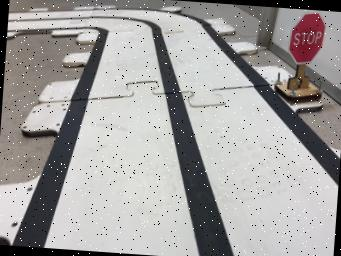stop: (274, 11, 325, 103), (274, 11, 325, 103), (274, 11, 325, 103)
street: (6, 7, 339, 256), (6, 7, 339, 256), (6, 7, 339, 256)
